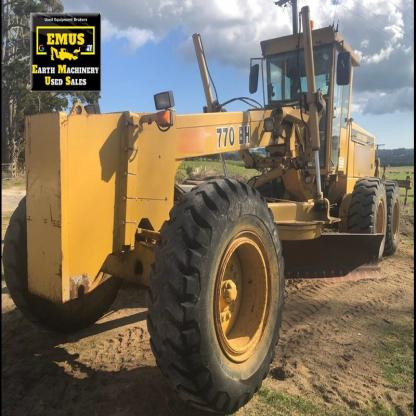bull_dozer/loader/grader: (6, 21, 404, 410)
